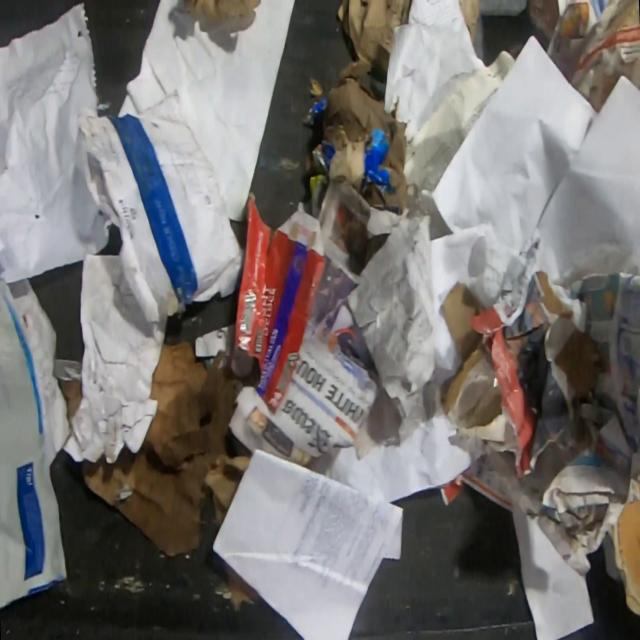cardboard: (80, 342, 252, 557), (232, 190, 328, 417), (301, 77, 408, 215), (532, 269, 604, 419), (439, 281, 502, 429), (612, 473, 640, 616), (181, 0, 264, 30), (58, 377, 81, 421)
